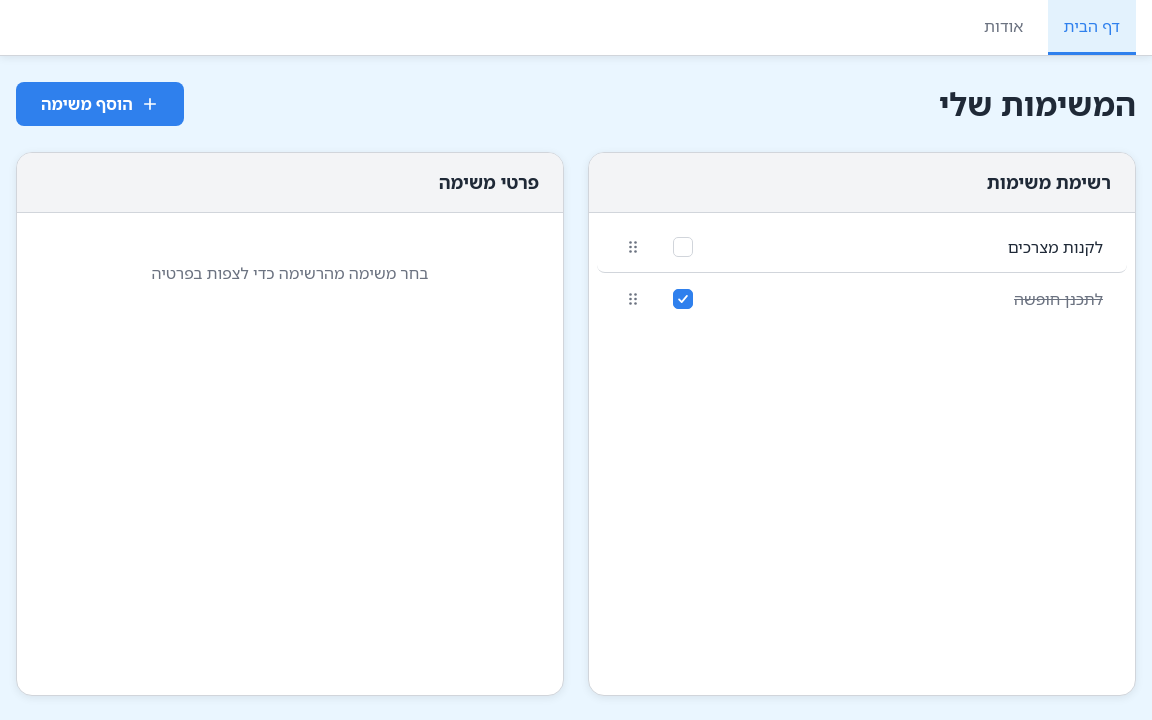
it: Add task modal › disables the add button while sending, so a double click sends one request
Click the button "הוסף משימה": (100, 104) [16,82,184,126]
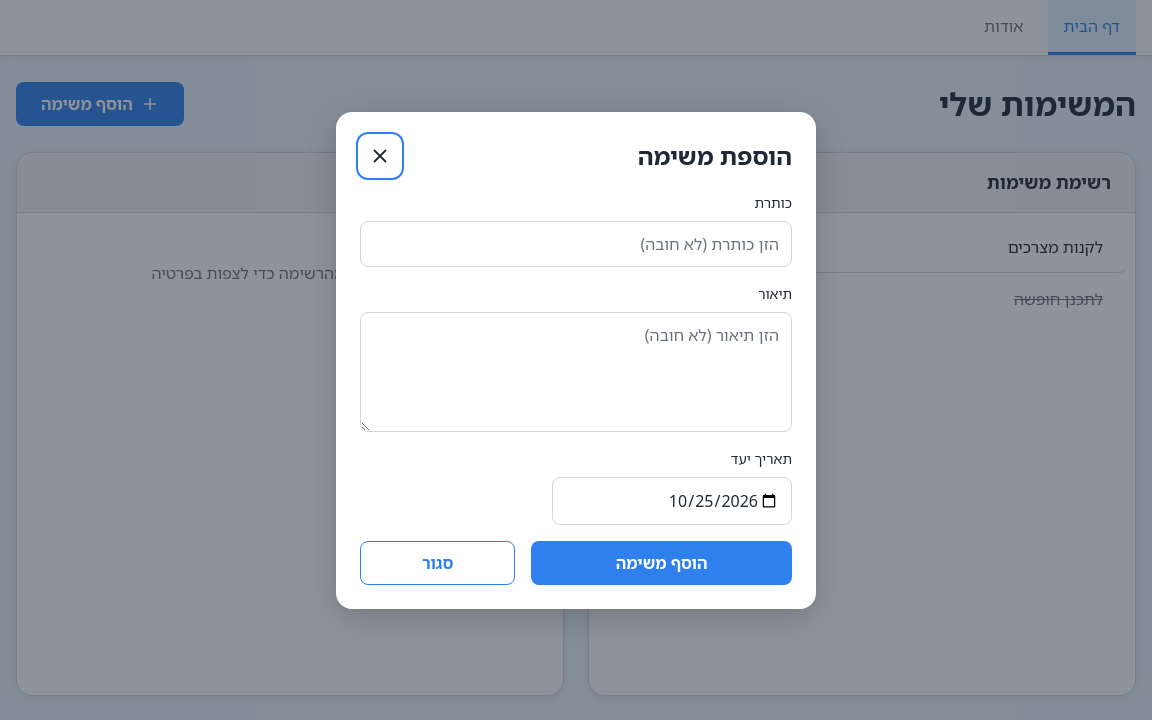
In the field labelled "כותרת": (576, 244) [360,220,792,266], type "פעם אחת"
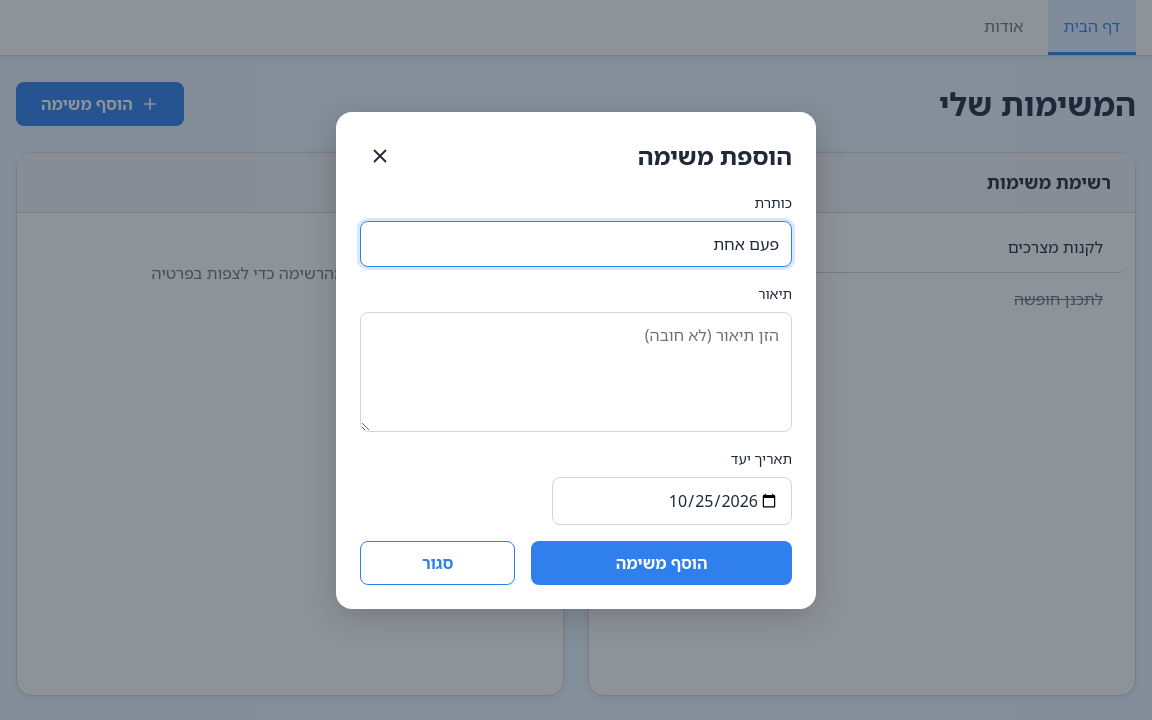
Double-click the button "הוסף משימה": (662, 562) [531,540,792,584]
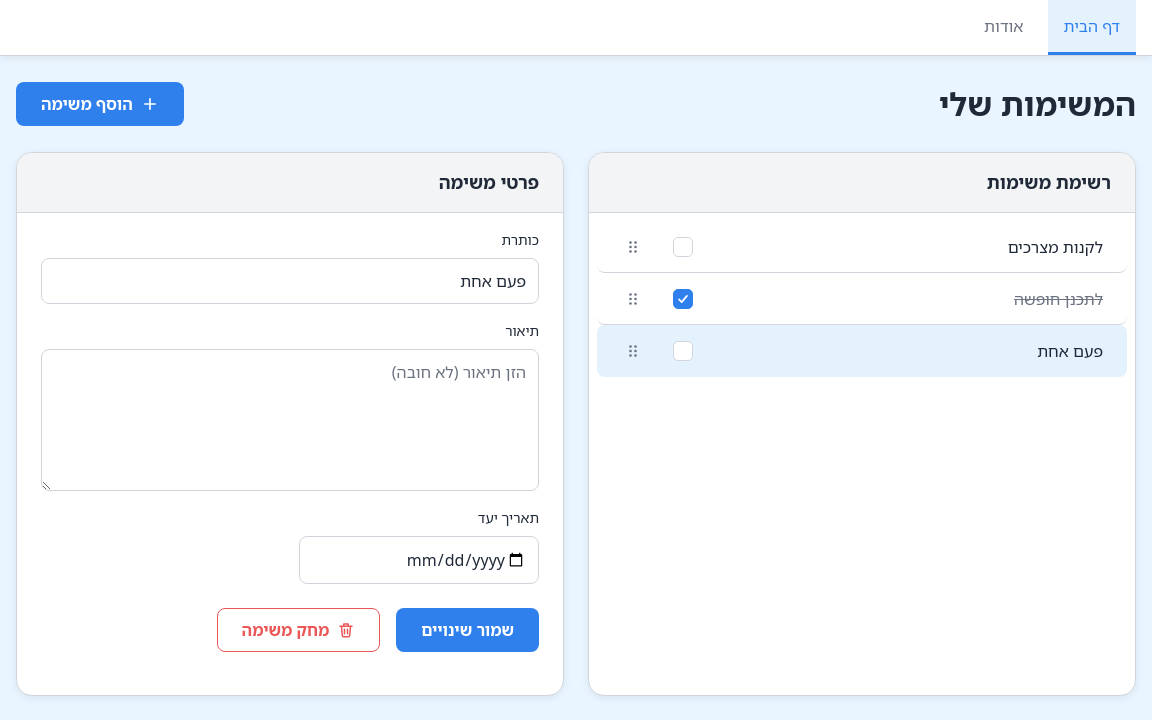
Result: the dialog is gone
